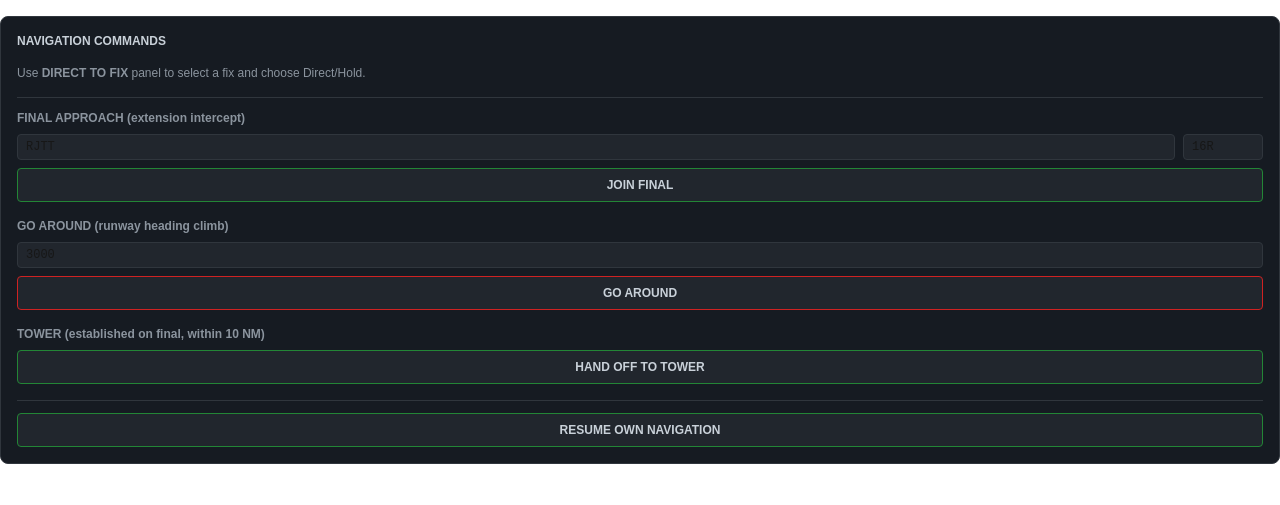
FlightPlanControl › shows the backend message when tower handoff fails
This screenshot has width=1280, height=505.
Click the button "HAND OFF TO TOWER". click: (640, 367)
box: [17, 350, 1263, 384]
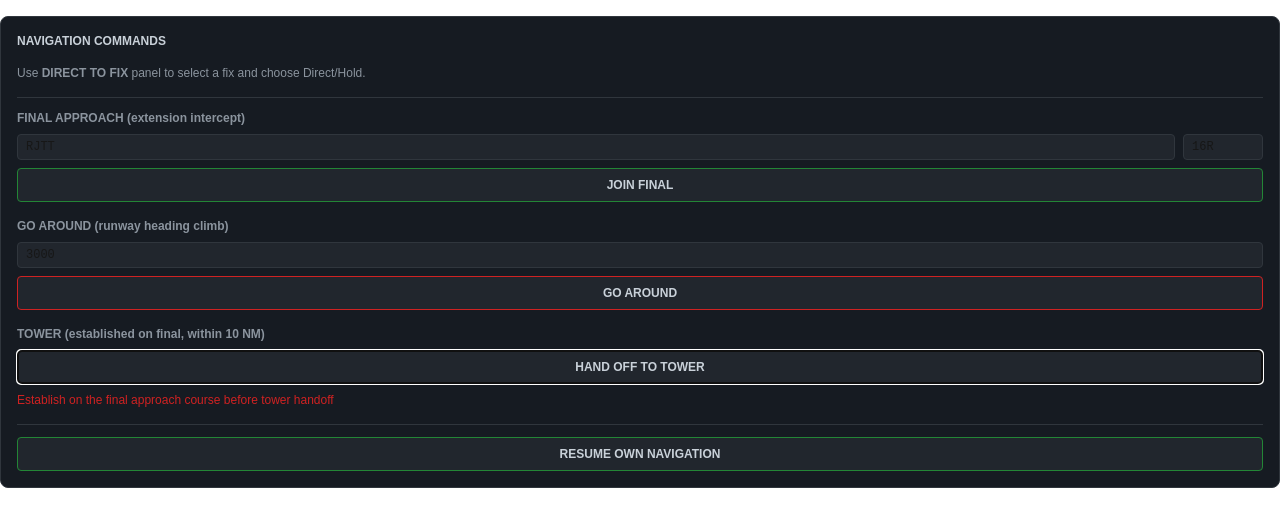
Expected: the text "Establish on the final approach course before tower handoff" is shown, [17, 393, 334, 407]
